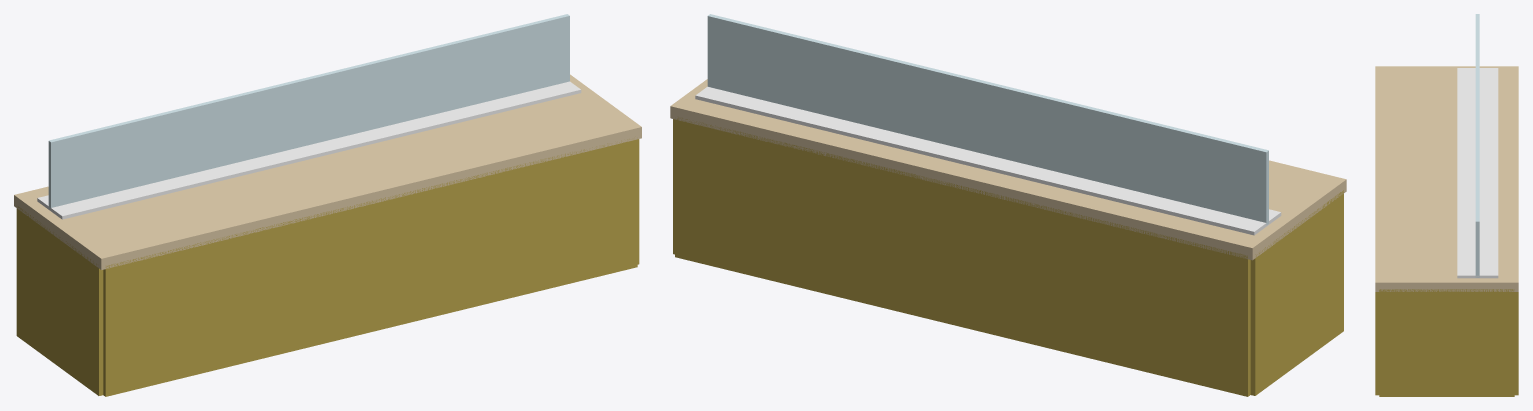
Rendered from sushi_counter.glb.
3 views of the same model, side by side, from view 1: azimuth 30°, elevation 25°; view 2: azimuth 150°, elevation 25°; view 3: azimuth 270°, elevation 25° (orthographic). The views are drawn at different scales.
Visible parts, largest first — view 1: body, neta_case, top, neta_shelf; view 2: body, neta_case, top, neta_shelf; view 3: top, body, neta_shelf, neta_case.
Part boxes in pixels (box(x1,y1,x2,y2)): body: box(16, 139, 639, 396); neta_case: box(48, 14, 569, 209); top: box(14, 74, 641, 269); neta_shelf: box(37, 81, 581, 219); body: box(673, 117, 1343, 396); neta_case: box(707, 14, 1268, 225); top: box(670, 79, 1346, 260); neta_shelf: box(695, 86, 1281, 235); top: box(1375, 66, 1518, 291); body: box(1375, 289, 1518, 396); neta_shelf: box(1457, 68, 1498, 278); neta_case: box(1475, 14, 1479, 277).
Bounding box in the file's own units: 2.5 × 0.92 × 0.7.
